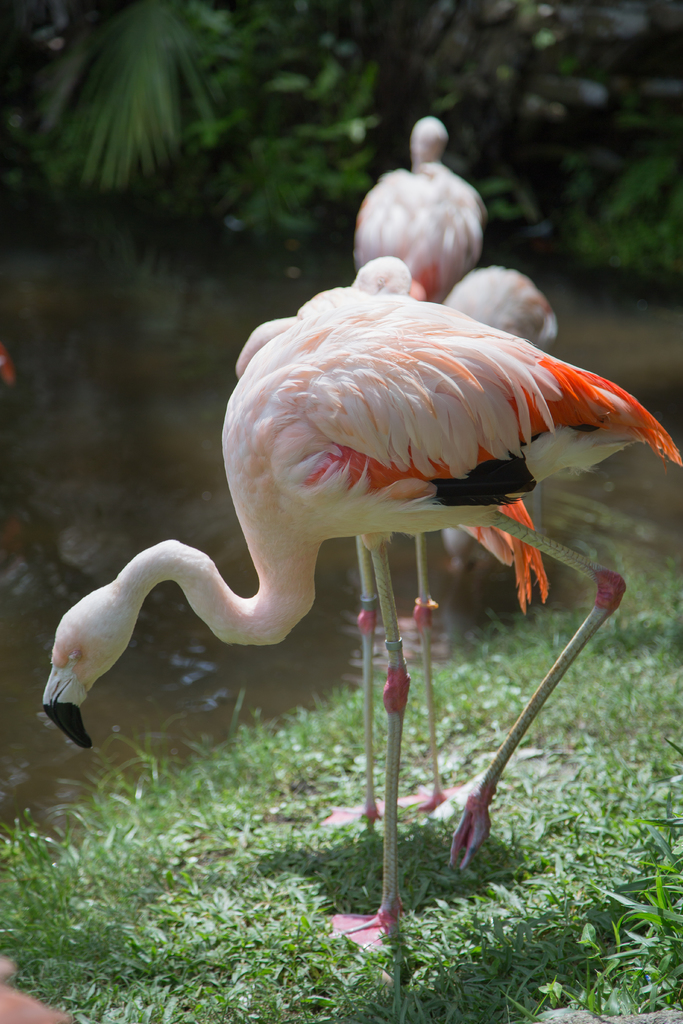Bird: (42, 116, 683, 952)
